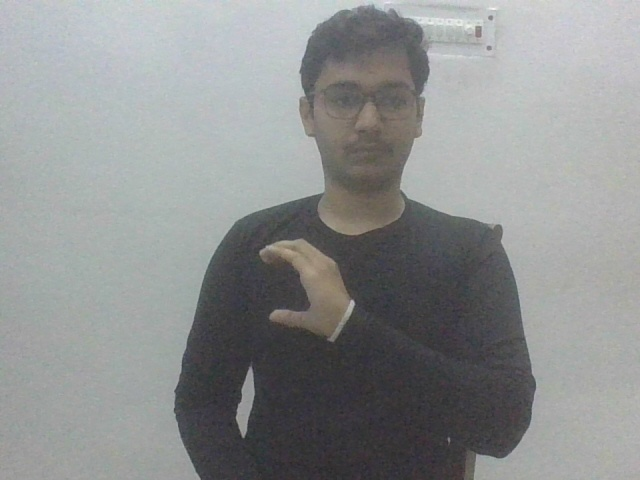C: (253, 233, 359, 345)
